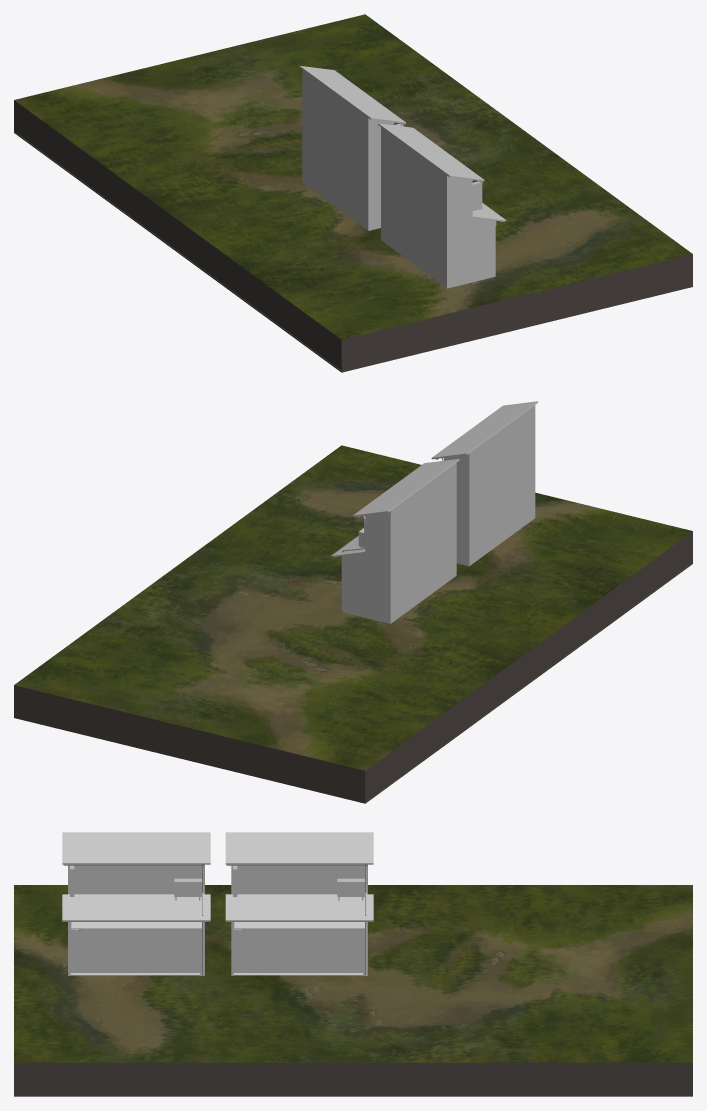
Rendered from city japan02.fbx.
3 renders of one model, top to bottom at view 1: azimuth 30°, elevation 25°; view 2: azimuth 150°, elevation 25°; view 3: azimuth 270°, elevation 25°, orthographic. The views are drawn at different scales.
Parts seen in each view (by area): view 1: Cube.026, Cube.003, Cube.001; view 2: Cube.026, Cube.001, Cube.003; view 3: Cube.026, Cube.003, Cube.001.
Boxes of the visible parts, left/top/right/bottom form: Cube.026: left=14, top=14, right=692, bottom=372; Cube.003: left=378, top=123, right=506, bottom=288; Cube.001: left=299, top=66, right=405, bottom=230; Cube.026: left=14, top=445, right=692, bottom=803; Cube.001: left=331, top=459, right=459, bottom=623; Cube.003: left=431, top=401, right=538, bottom=566; Cube.026: left=14, top=885, right=692, bottom=1096; Cube.003: left=62, top=832, right=210, bottom=975; Cube.001: left=225, top=832, right=373, bottom=975.
Bounding box in the file's own units: 1183 × 475 × 1911.
